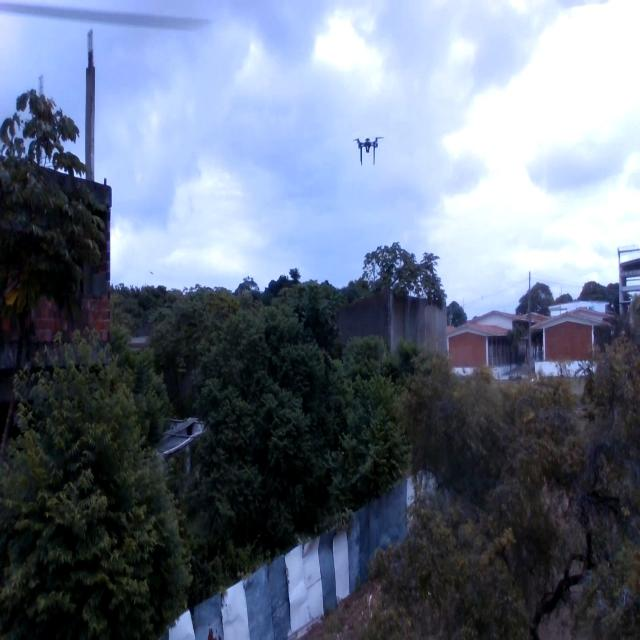-uav-: (349, 129, 389, 172)
